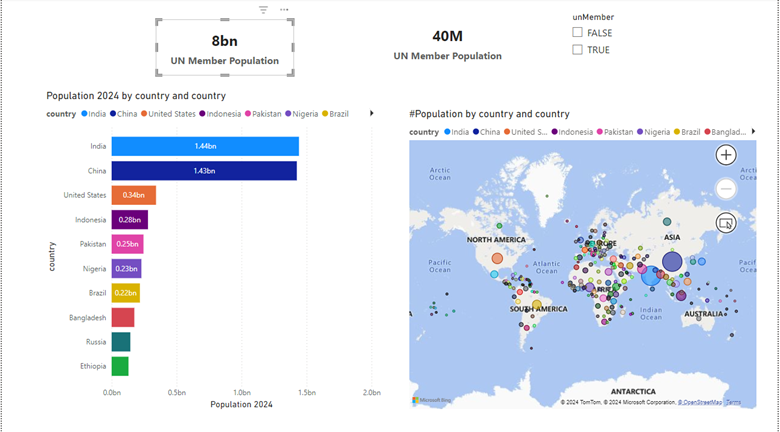

Layout of this report page (visuals, bound fields, positions):
{"tool":"powerbi","page":{"name":"World Wide Population","canvas":[1800,800],"ordinal":0},"visuals":[{"type":"barChart","title":"Population 2024 by country","fields":{"Category":["2024Populations.country"],"Y":["Sum(2024Populations.pop2024)"],"Series":["2024Populations.country"]},"box":[11.4,106.3,444.8,681.9],"z":0},{"type":"slicer","fields":{"Values":["2024Populations.unMember"]},"box":[508.5,13.8,261.6,75.2],"z":1000},{"type":"card","fields":{"Values":["Sum(2024Populations.pop2024)"]},"box":[11.4,13.8,227.3,75.2],"z":2000},{"type":"card","fields":{"Values":["Sum(2024Populations.pop2024)"]},"box":[253.5,13.8,227.3,75.2],"z":3000},{"type":"map","fields":{"Category":["2024Populations.country"],"Series":["2024Populations.country"],"Size":["Sum(2024Populations.pop2024)"]},"box":[469.3,106.3,1316.3,681.9],"z":4000},{"type":"textbox","box":[781.6,13.1,1018.7,75.2],"z":5000},{"type":"barChart","box":[100,100,300,300],"z":6000}]}

Visuals, with their boxes on the page's 1800x800 design canvas (x1, y1, x2, y2). These are canvas units, not pixel positions in the 780x432 screenshot, which may show the page scaled, cropped or inside an application window:
"Population 2024 by country" barChart: <box>11,106,456,788</box>
slicer - 2024Populations.unMember: <box>508,14,770,89</box>
card - Sum(2024Populations.pop2024): <box>11,14,239,89</box>
card - Sum(2024Populations.pop2024): <box>254,14,481,89</box>
map - 2024Populations.country x 2024Populations.country: <box>469,106,1786,788</box>
textbox: <box>782,13,1800,88</box>
barChart: <box>100,100,400,400</box>
